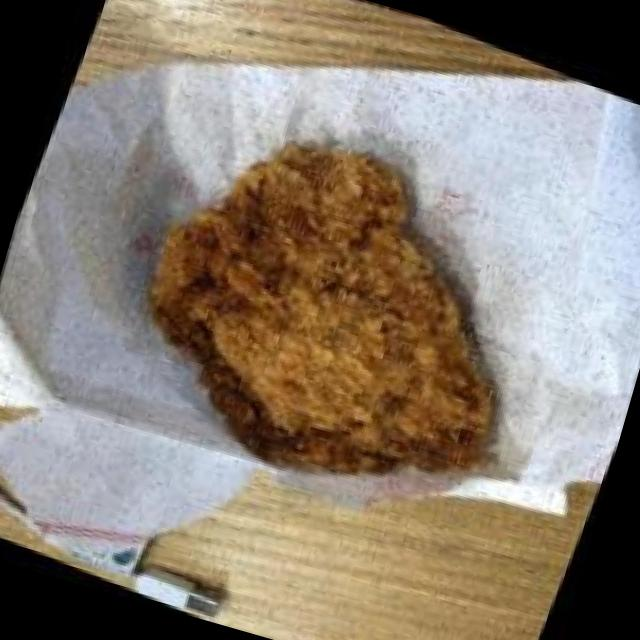fried_chicken: (62, 52, 608, 570)
